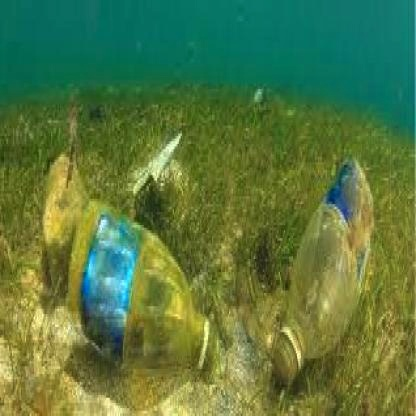pbottle: (56, 198, 225, 384), (265, 157, 380, 403)
